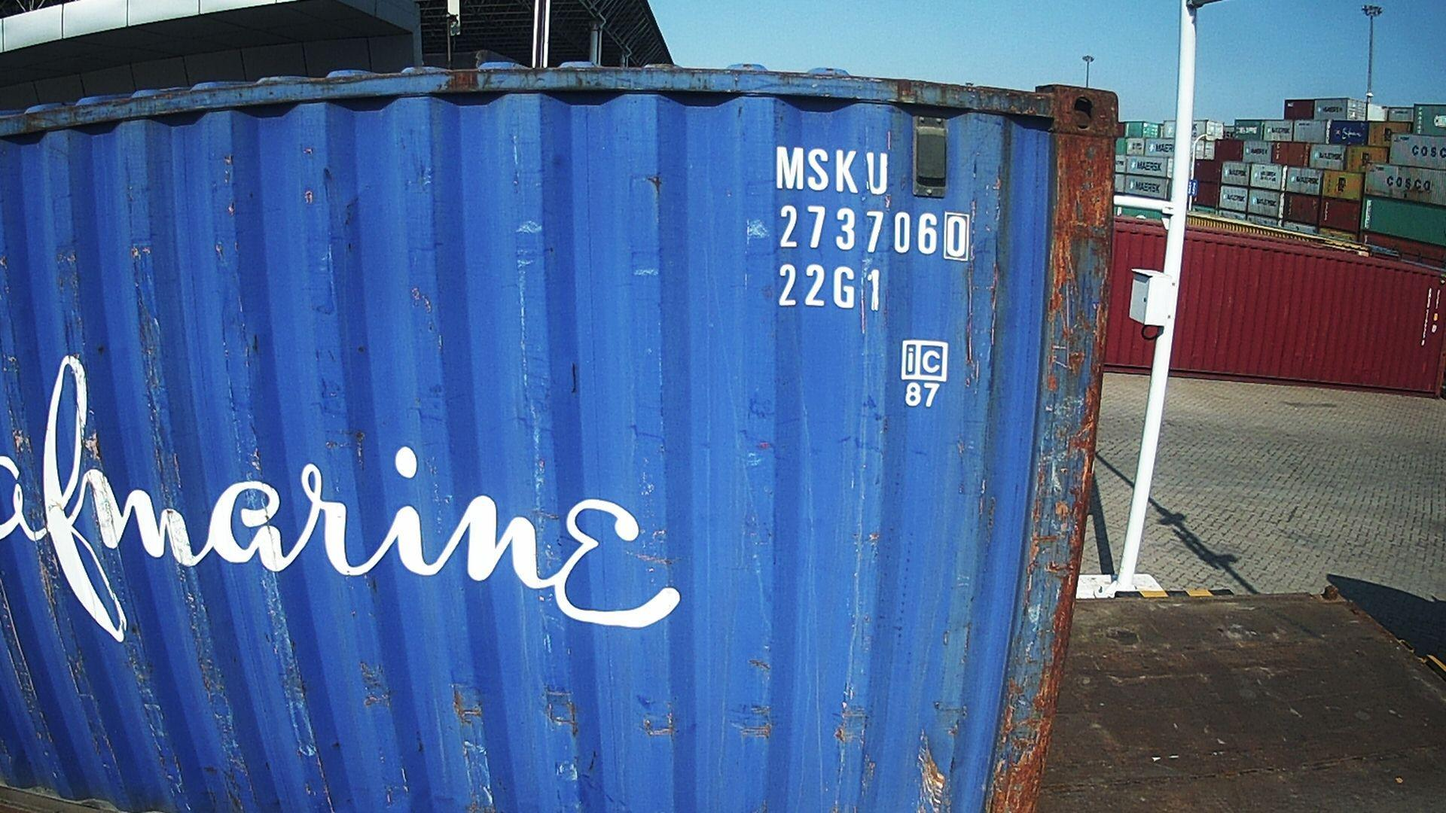container-numbers: (772, 202, 971, 264), (770, 145, 891, 200), (771, 259, 886, 315)
